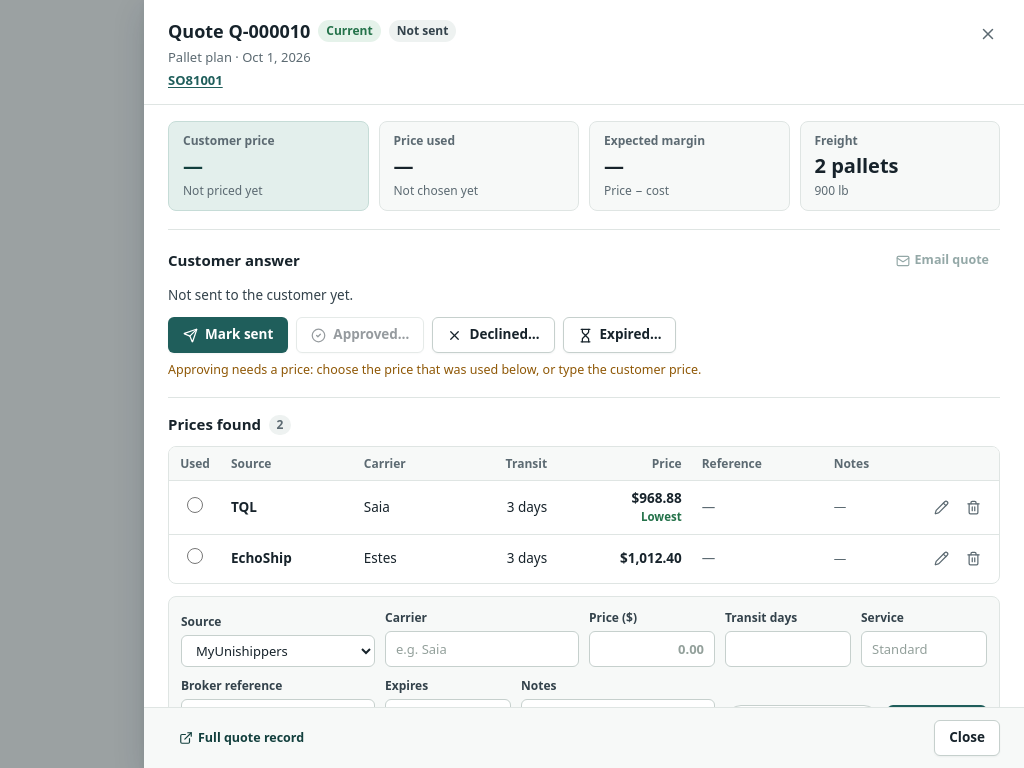
Test: QuoteDetail › uses the selected broker price and shows the customer price from the pricing rule
Expected: the text "Not priced yet" is shown, 183,182 -> 262,199
Click the radio button named "Use TQL Saia $968.88 for the quote" at [195, 505], box 187,497 -> 203,513
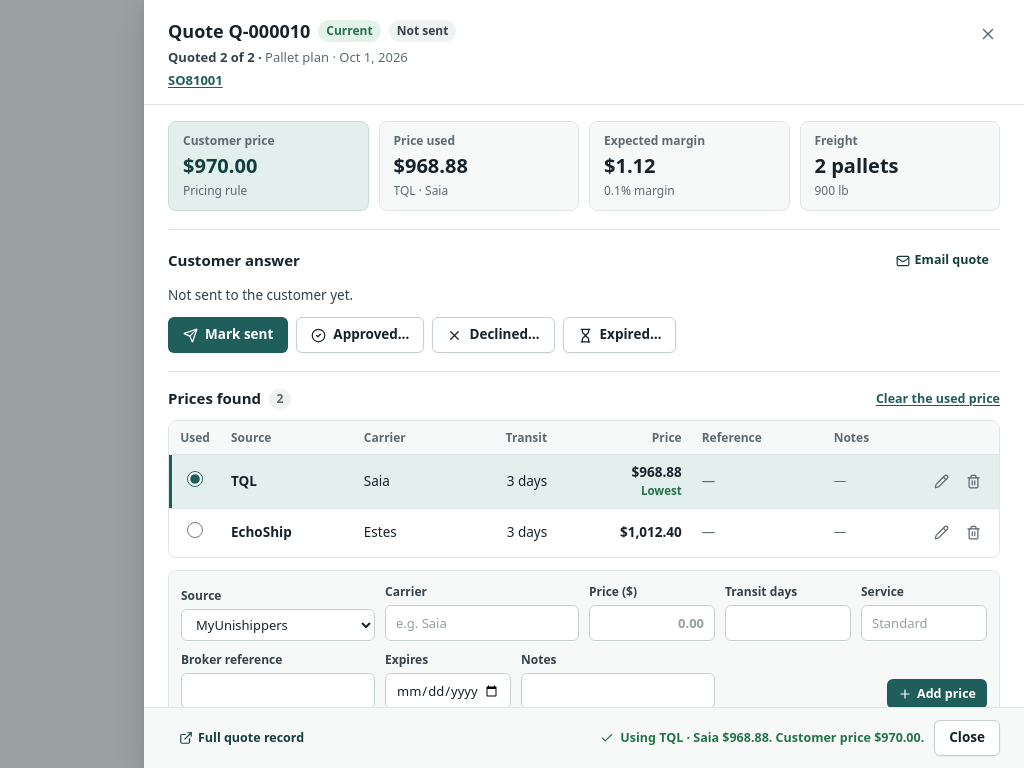
Expected: the radio button named "Use TQL Saia $968.88 for the quote" is checked, 187,471 -> 203,487
Expected: the text "$970.00" is shown, 183,152 -> 257,179
Expected: the text "$1.12" is shown, 604,152 -> 656,179
